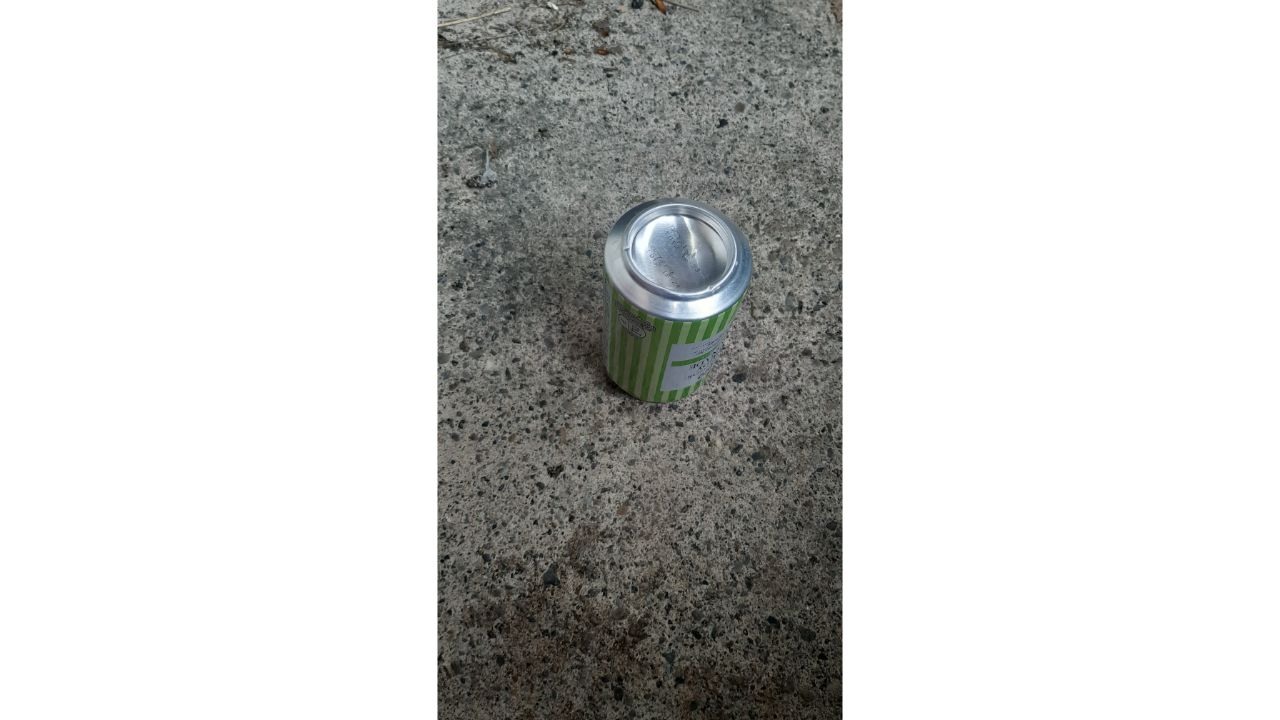Can: (584, 180, 763, 418)
